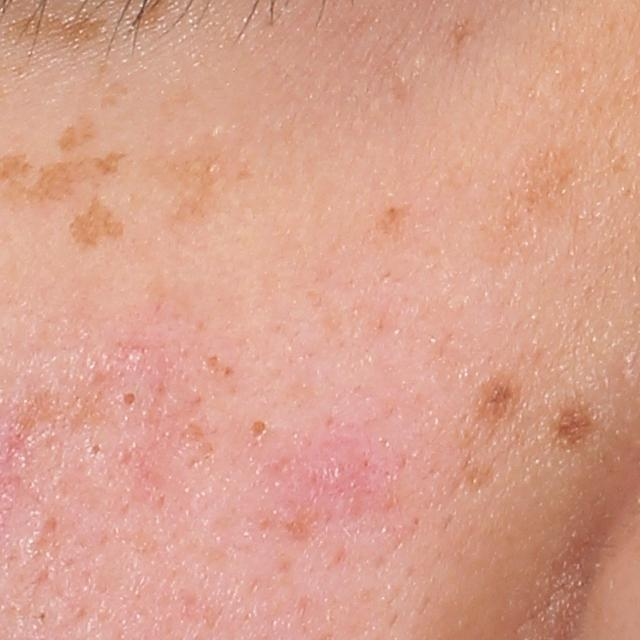atrophic_scar: (27, 512, 60, 554)
comedo: (245, 417, 272, 449), (83, 439, 105, 464), (119, 388, 140, 413)
melasma: (491, 136, 592, 251), (148, 142, 259, 237), (67, 194, 125, 254), (366, 199, 419, 246), (443, 15, 483, 67), (55, 112, 98, 153)
nevus: (466, 372, 525, 429), (548, 404, 600, 449)
